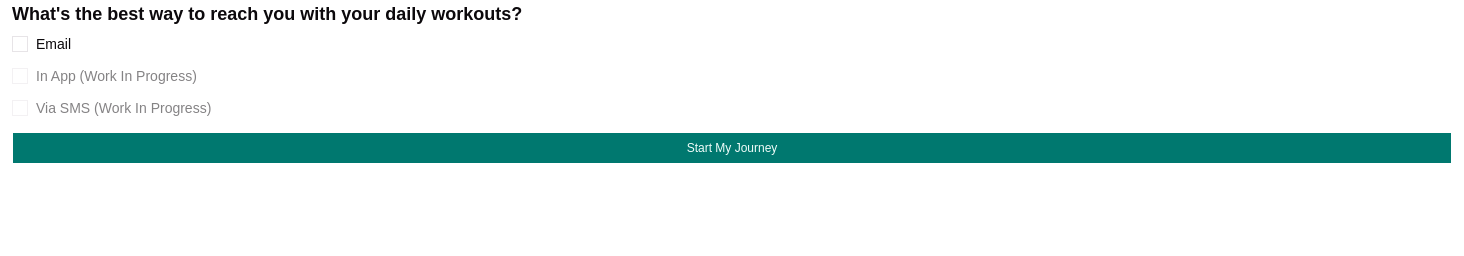
Notifications Page › shows error message on API failure
Click the text "Email" at point(54, 44), box top-left (36, 37), bottom-right (71, 51)
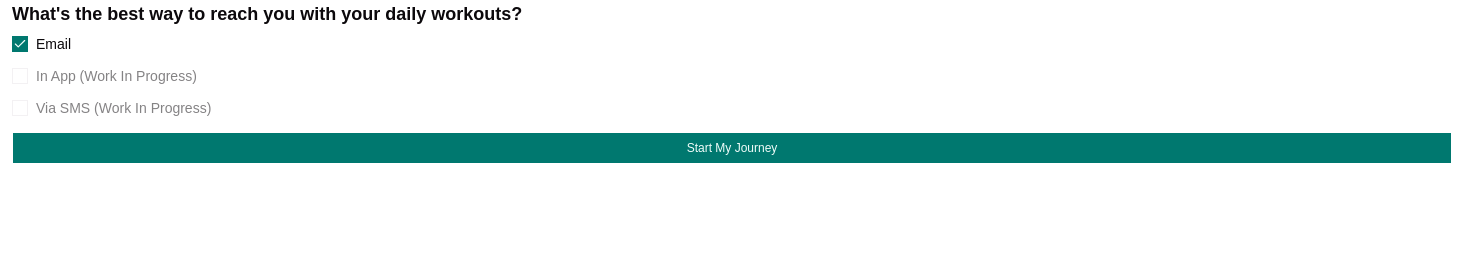
Click the button "Start My Journey" at point(732, 148), box top-left (12, 132), bottom-right (1452, 164)
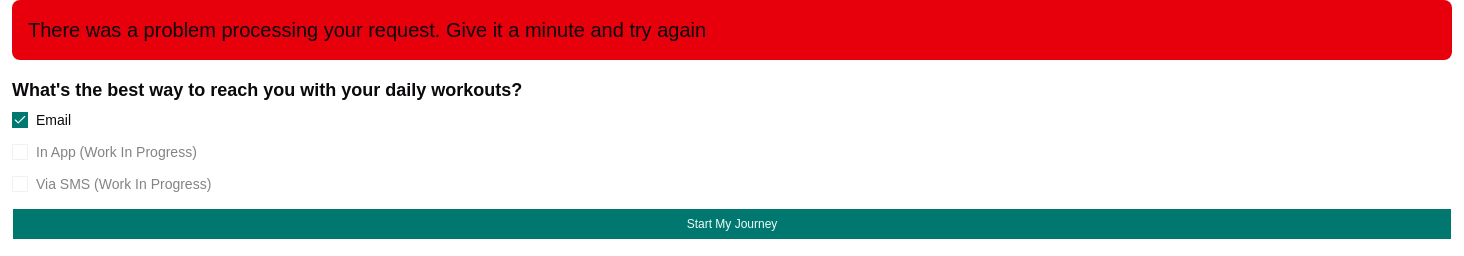
Check: the text "There was a problem processing your request" is shown, box top-left (28, 19), bottom-right (706, 41)
